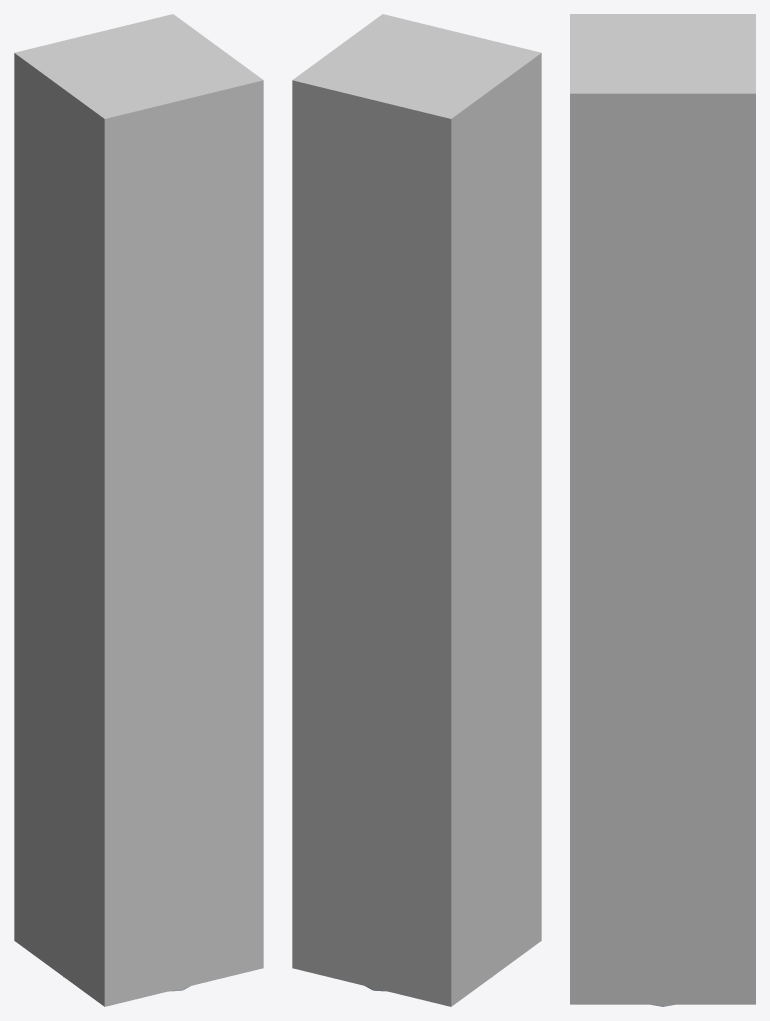
Rendered from Scene_Build_TianShan_ZhuZi_2.FBX.
3 views of the same model, side by side, from view 1: azimuth 30°, elevation 25°; view 2: azimuth 150°, elevation 25°; view 3: azimuth 270°, elevation 25° (orthographic). The views are drawn at different scales.
Visible parts, largest first — view 1: Scene_Build_TianShan_ZhuZi_2_Xzm; view 2: Scene_Build_TianShan_ZhuZi_2_Xzm; view 3: Scene_Build_TianShan_ZhuZi_2_Xzm.
Part boxes in pixels (x1,y1,x2,y2): Scene_Build_TianShan_ZhuZi_2_Xzm: [14, 14, 263, 1006]; Scene_Build_TianShan_ZhuZi_2_Xzm: [292, 14, 541, 1006]; Scene_Build_TianShan_ZhuZi_2_Xzm: [570, 14, 755, 1004].
Size of the model in its own units: 95.57 by 512 by 94.23.
